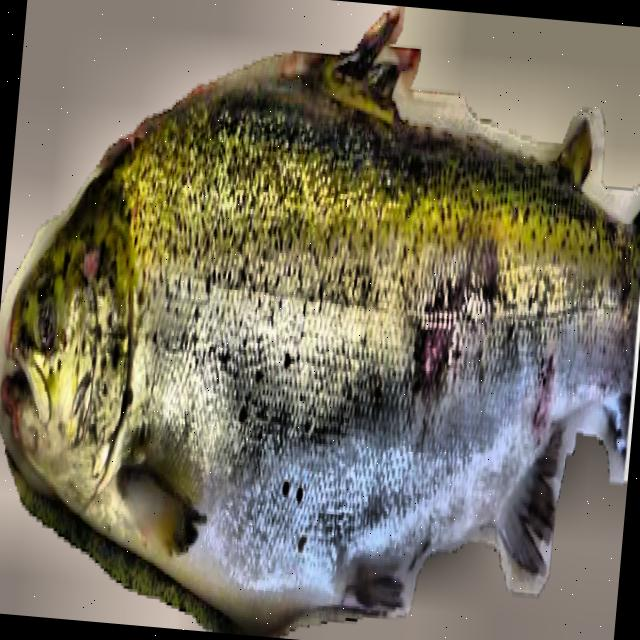mild_red: (119, 69, 640, 622)
